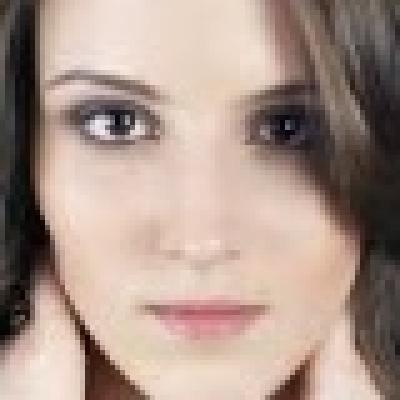netural: (40, 7, 355, 388)
